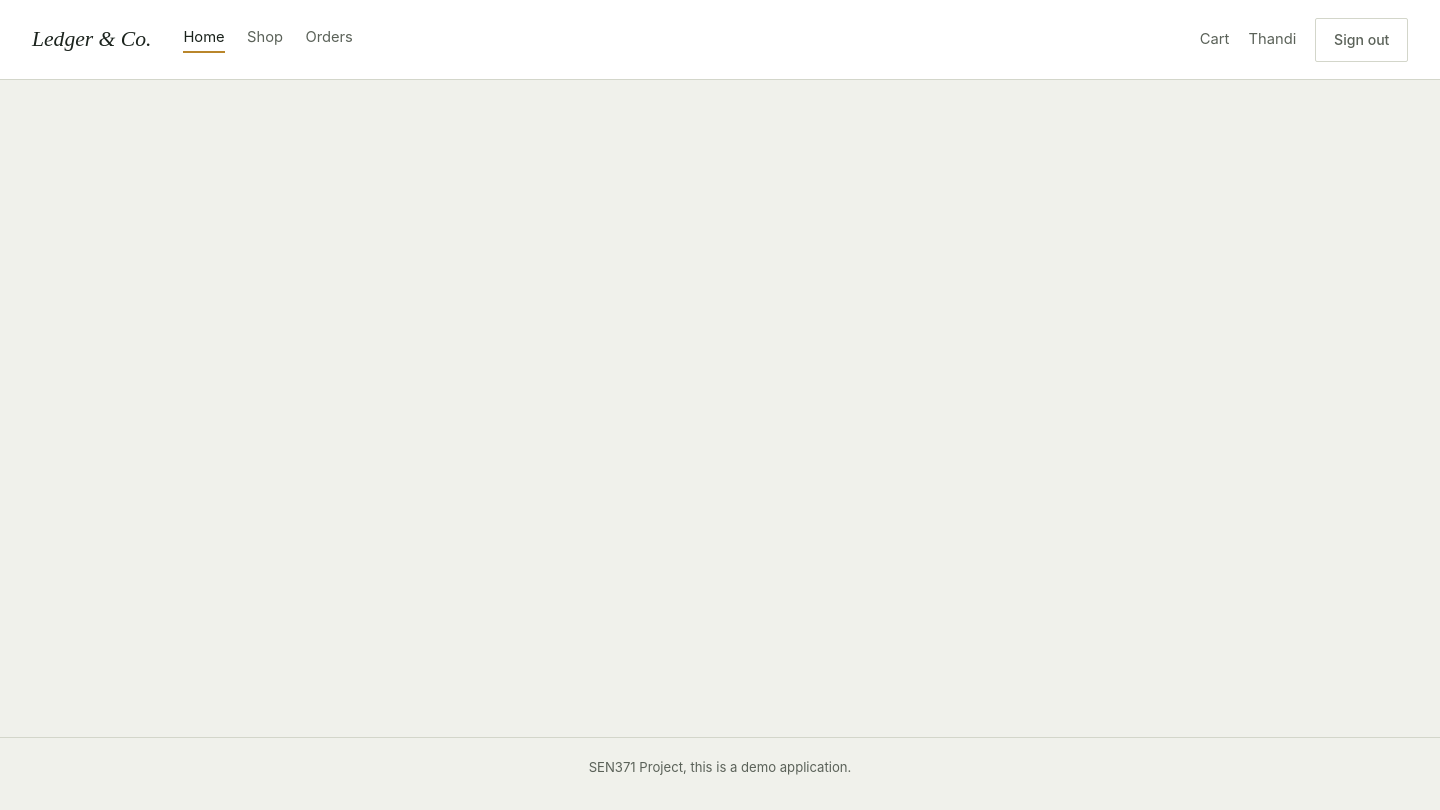
Test: Layout navigation for a signed-in customer › returns the visitor to signed-out navigation after signing out
This screenshot has width=1440, height=810.
Click the button "Sign out" at (1362, 40), box 1316,18 -> 1408,62
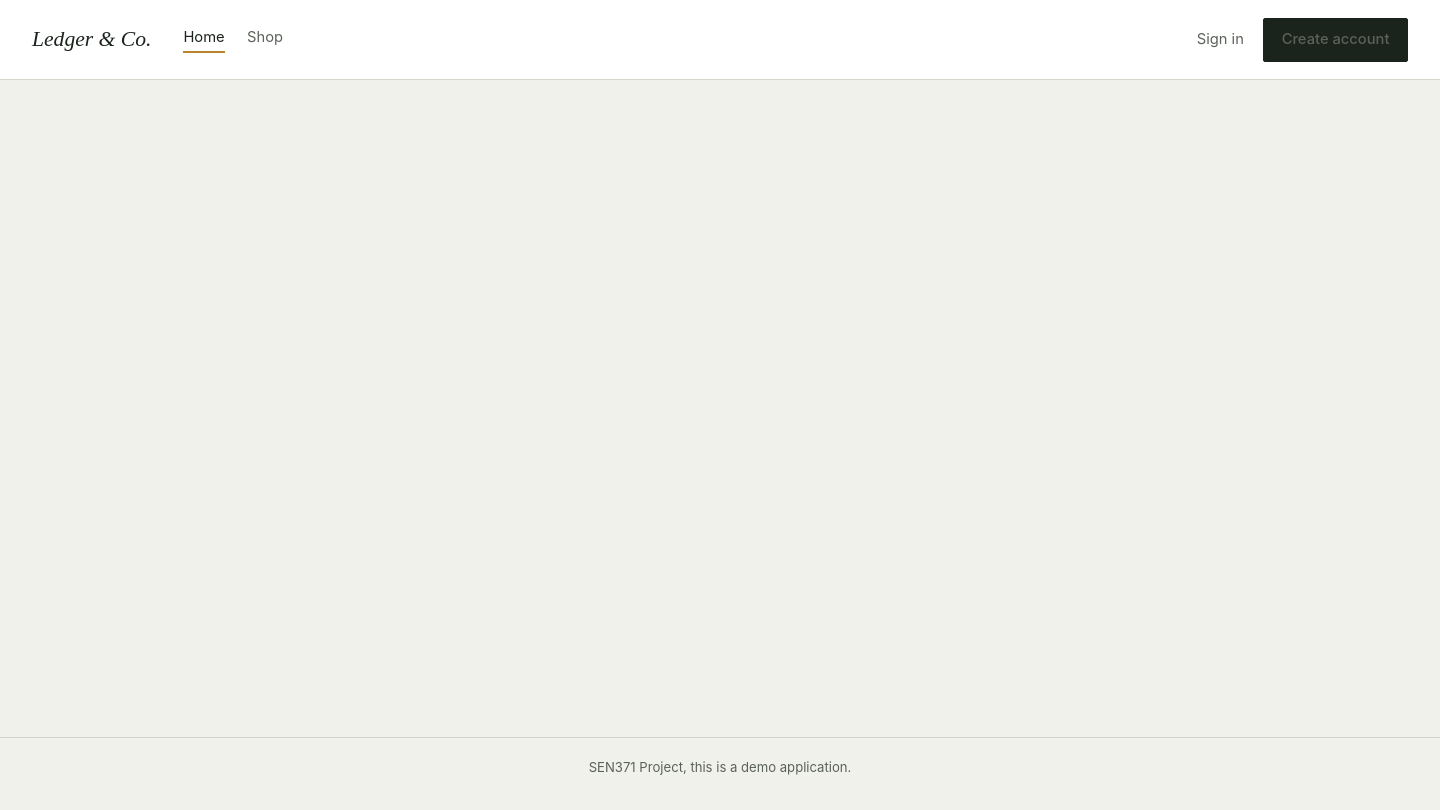
Now the link "Sign in" is shown, box 1197,28 -> 1244,51
Now the button "Sign out" is gone
